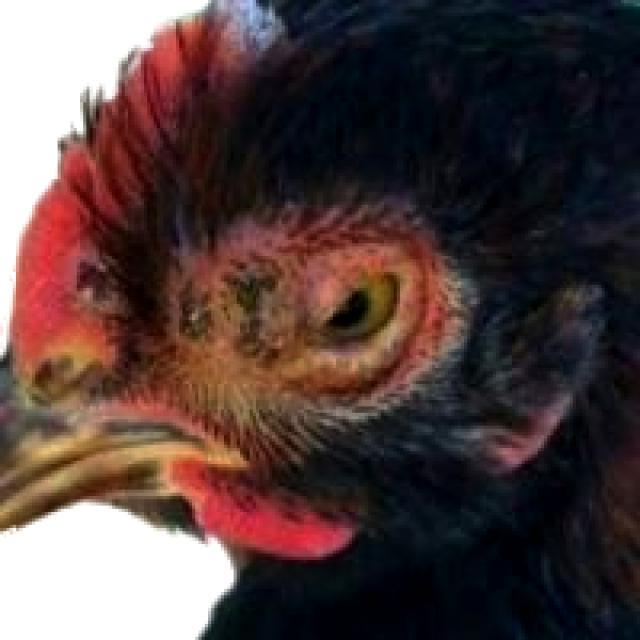Coryza: (273, 249, 437, 390)
